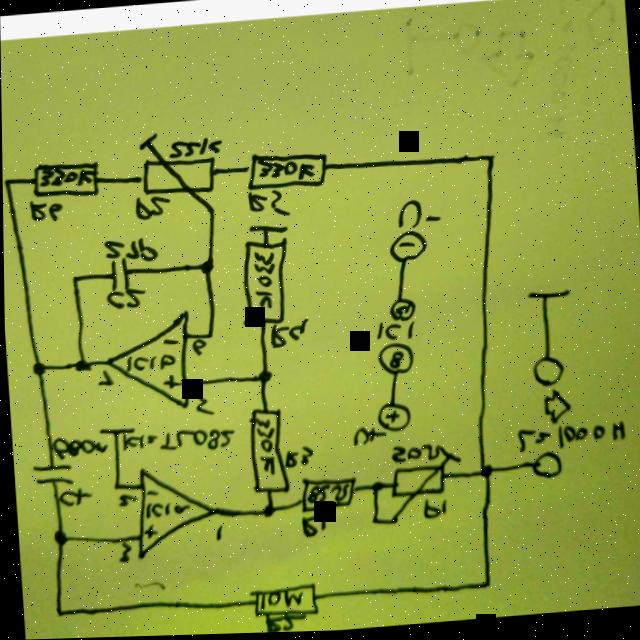capacitor: (30, 464, 75, 489), (108, 259, 130, 295)
ground: (525, 290, 572, 308), (245, 223, 288, 242), (97, 422, 137, 441)
junction: (255, 370, 273, 389), (258, 505, 276, 524), (73, 357, 90, 377), (30, 360, 47, 379), (198, 259, 215, 278), (50, 531, 67, 550), (476, 466, 492, 484), (368, 482, 384, 499), (482, 155, 497, 170), (51, 606, 64, 621), (204, 207, 218, 220), (388, 517, 401, 531), (2, 175, 14, 190), (479, 582, 492, 595), (367, 518, 380, 531), (68, 275, 81, 287), (202, 330, 215, 342), (111, 479, 122, 493)
resistor: (137, 130, 217, 201), (236, 238, 294, 330), (385, 447, 462, 502), (245, 408, 288, 497), (244, 151, 329, 195), (31, 159, 101, 202), (246, 585, 318, 623), (298, 476, 357, 516)
terminal: (386, 232, 428, 269), (529, 355, 564, 393), (376, 345, 414, 380), (375, 403, 411, 435), (528, 453, 562, 485), (387, 299, 416, 328)
text: (119, 426, 238, 460), (515, 423, 625, 459), (256, 156, 316, 186), (103, 235, 159, 267), (394, 199, 442, 234), (252, 252, 279, 314), (51, 434, 109, 462), (38, 162, 96, 190), (246, 189, 291, 222), (166, 137, 224, 162), (267, 319, 310, 351), (122, 351, 176, 376), (254, 422, 276, 479), (388, 444, 442, 467), (304, 483, 349, 509), (132, 196, 172, 223), (104, 287, 147, 312), (257, 591, 302, 614), (142, 501, 191, 522), (373, 322, 415, 346), (262, 613, 307, 634), (28, 199, 64, 225), (281, 447, 313, 473), (351, 428, 386, 451), (56, 488, 91, 510), (298, 515, 326, 541), (419, 501, 447, 522), (94, 369, 114, 389), (194, 398, 213, 419), (115, 542, 131, 565), (116, 493, 137, 510), (190, 339, 207, 359), (387, 353, 404, 373), (393, 305, 412, 322), (212, 524, 224, 544)
